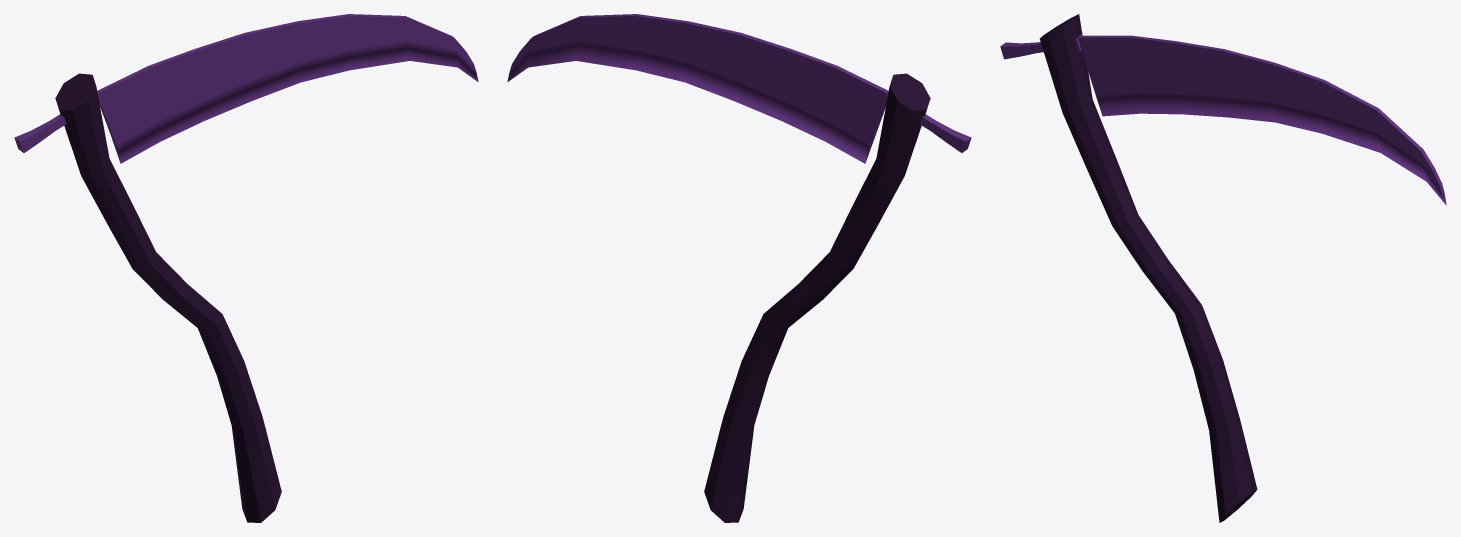
File: Scyth.fbx
The picture shows the model from 3 angles, left to right: view 1: azimuth 30°, elevation 25°; view 2: azimuth 150°, elevation 25°; view 3: azimuth 330°, elevation 25°; orthographic projection. The views are drawn at different scales.
Visible parts, largest first — view 1: Scythe; view 2: Scythe; view 3: Scythe.
Boxes of the visible parts, bbox=[...] form: Scythe: bbox=[14, 14, 478, 522]; Scythe: bbox=[507, 14, 971, 522]; Scythe: bbox=[1000, 14, 1446, 522].
Bounding box in the file's own units: 0.9386 × 0.9506 × 0.0934.
